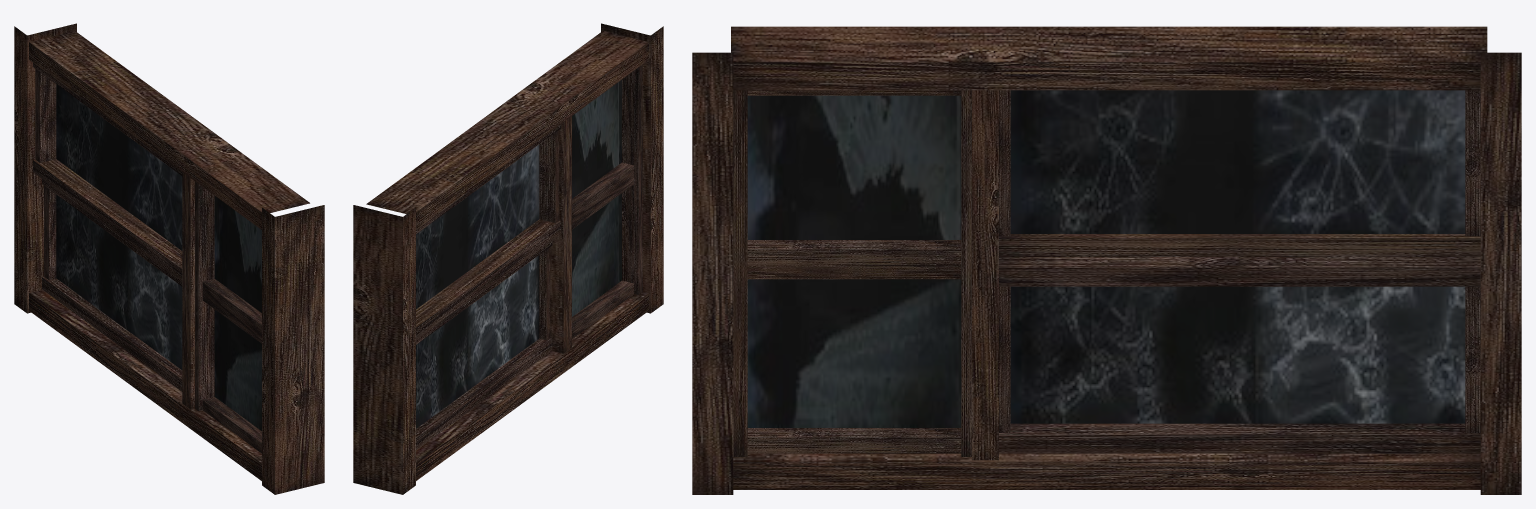
File: caen_window_brown_broken_1.glb
The picture shows the model from 3 angles, left to right: view 1: azimuth 30°, elevation 25°; view 2: azimuth 150°, elevation 25°; view 3: azimuth 270°, elevation 25°; orthographic projection. The views are drawn at different scales.
Size of the model in its own units: 7.98 by 42.72 by 72.59.
1 material, 1 textured.
